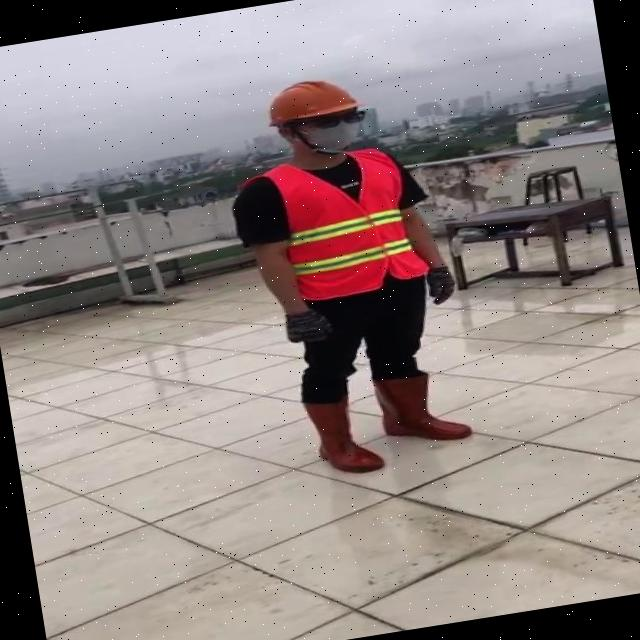boots: (370, 362, 481, 453), (298, 388, 388, 482)
helmet: (256, 70, 361, 132)
vest: (246, 144, 433, 310)
